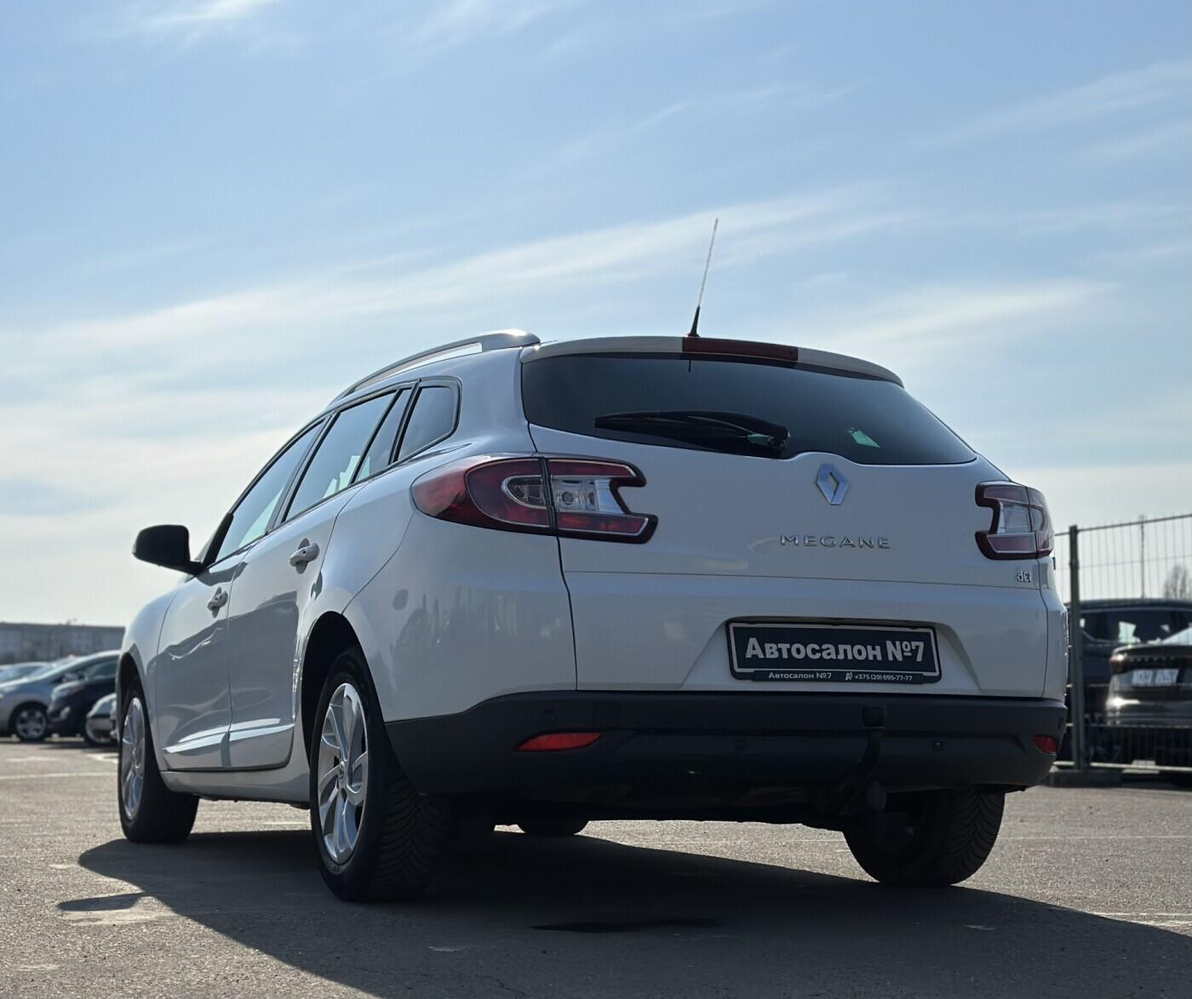Megane_2014-2016: (108, 325, 1071, 876)
